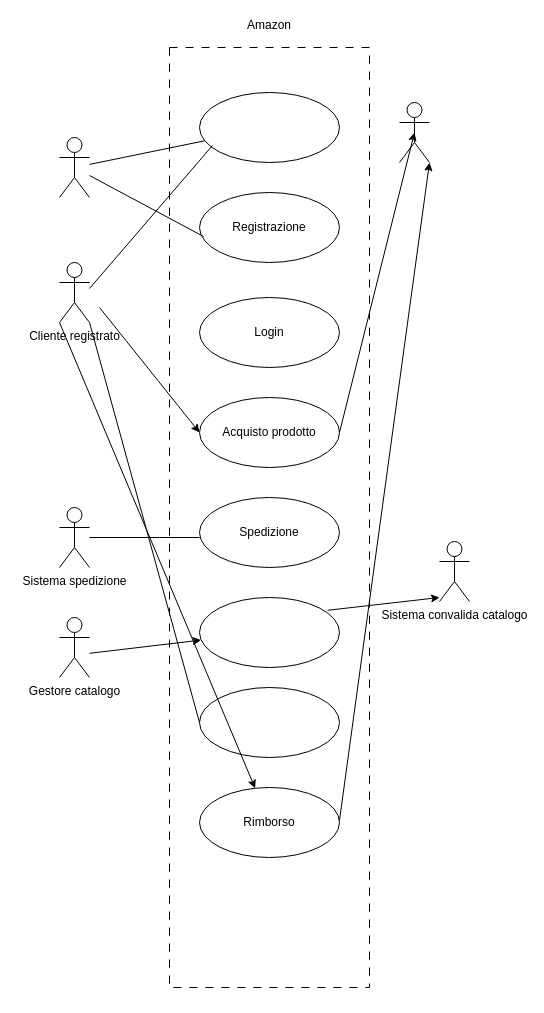
The diagram is 544 pixels wide and 1013 high, and some of its shapes have lost their labels. Each missing label, with the centre of its shape:
"Cliente non registrato" belongs at pixel 74 167.
"Gestione account" belongs at pixel 269 722.
"Gestione catalogo" belongs at pixel 269 632.
"Sistema bancario" belongs at pixel 414 132.
"Visuali zzazione catalogo" belongs at pixel 269 127.
